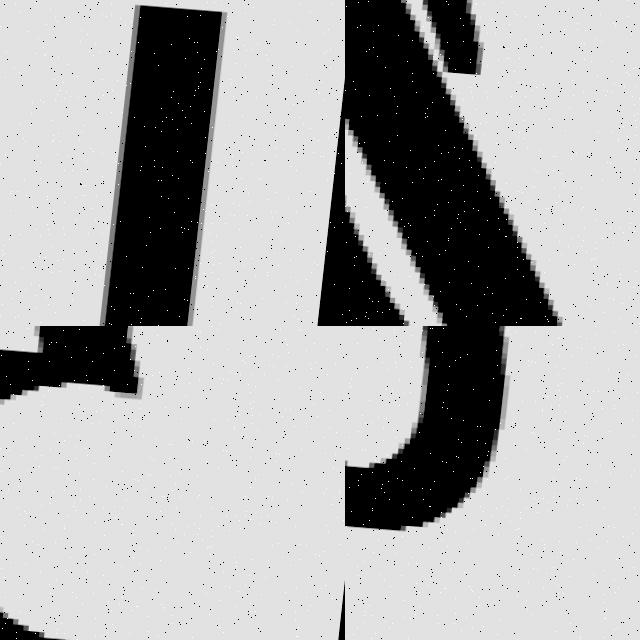5: (0, 326, 213, 640)
Q: (345, 326, 542, 640)
U: (0, 0, 233, 326)
Z: (345, 0, 640, 326)
